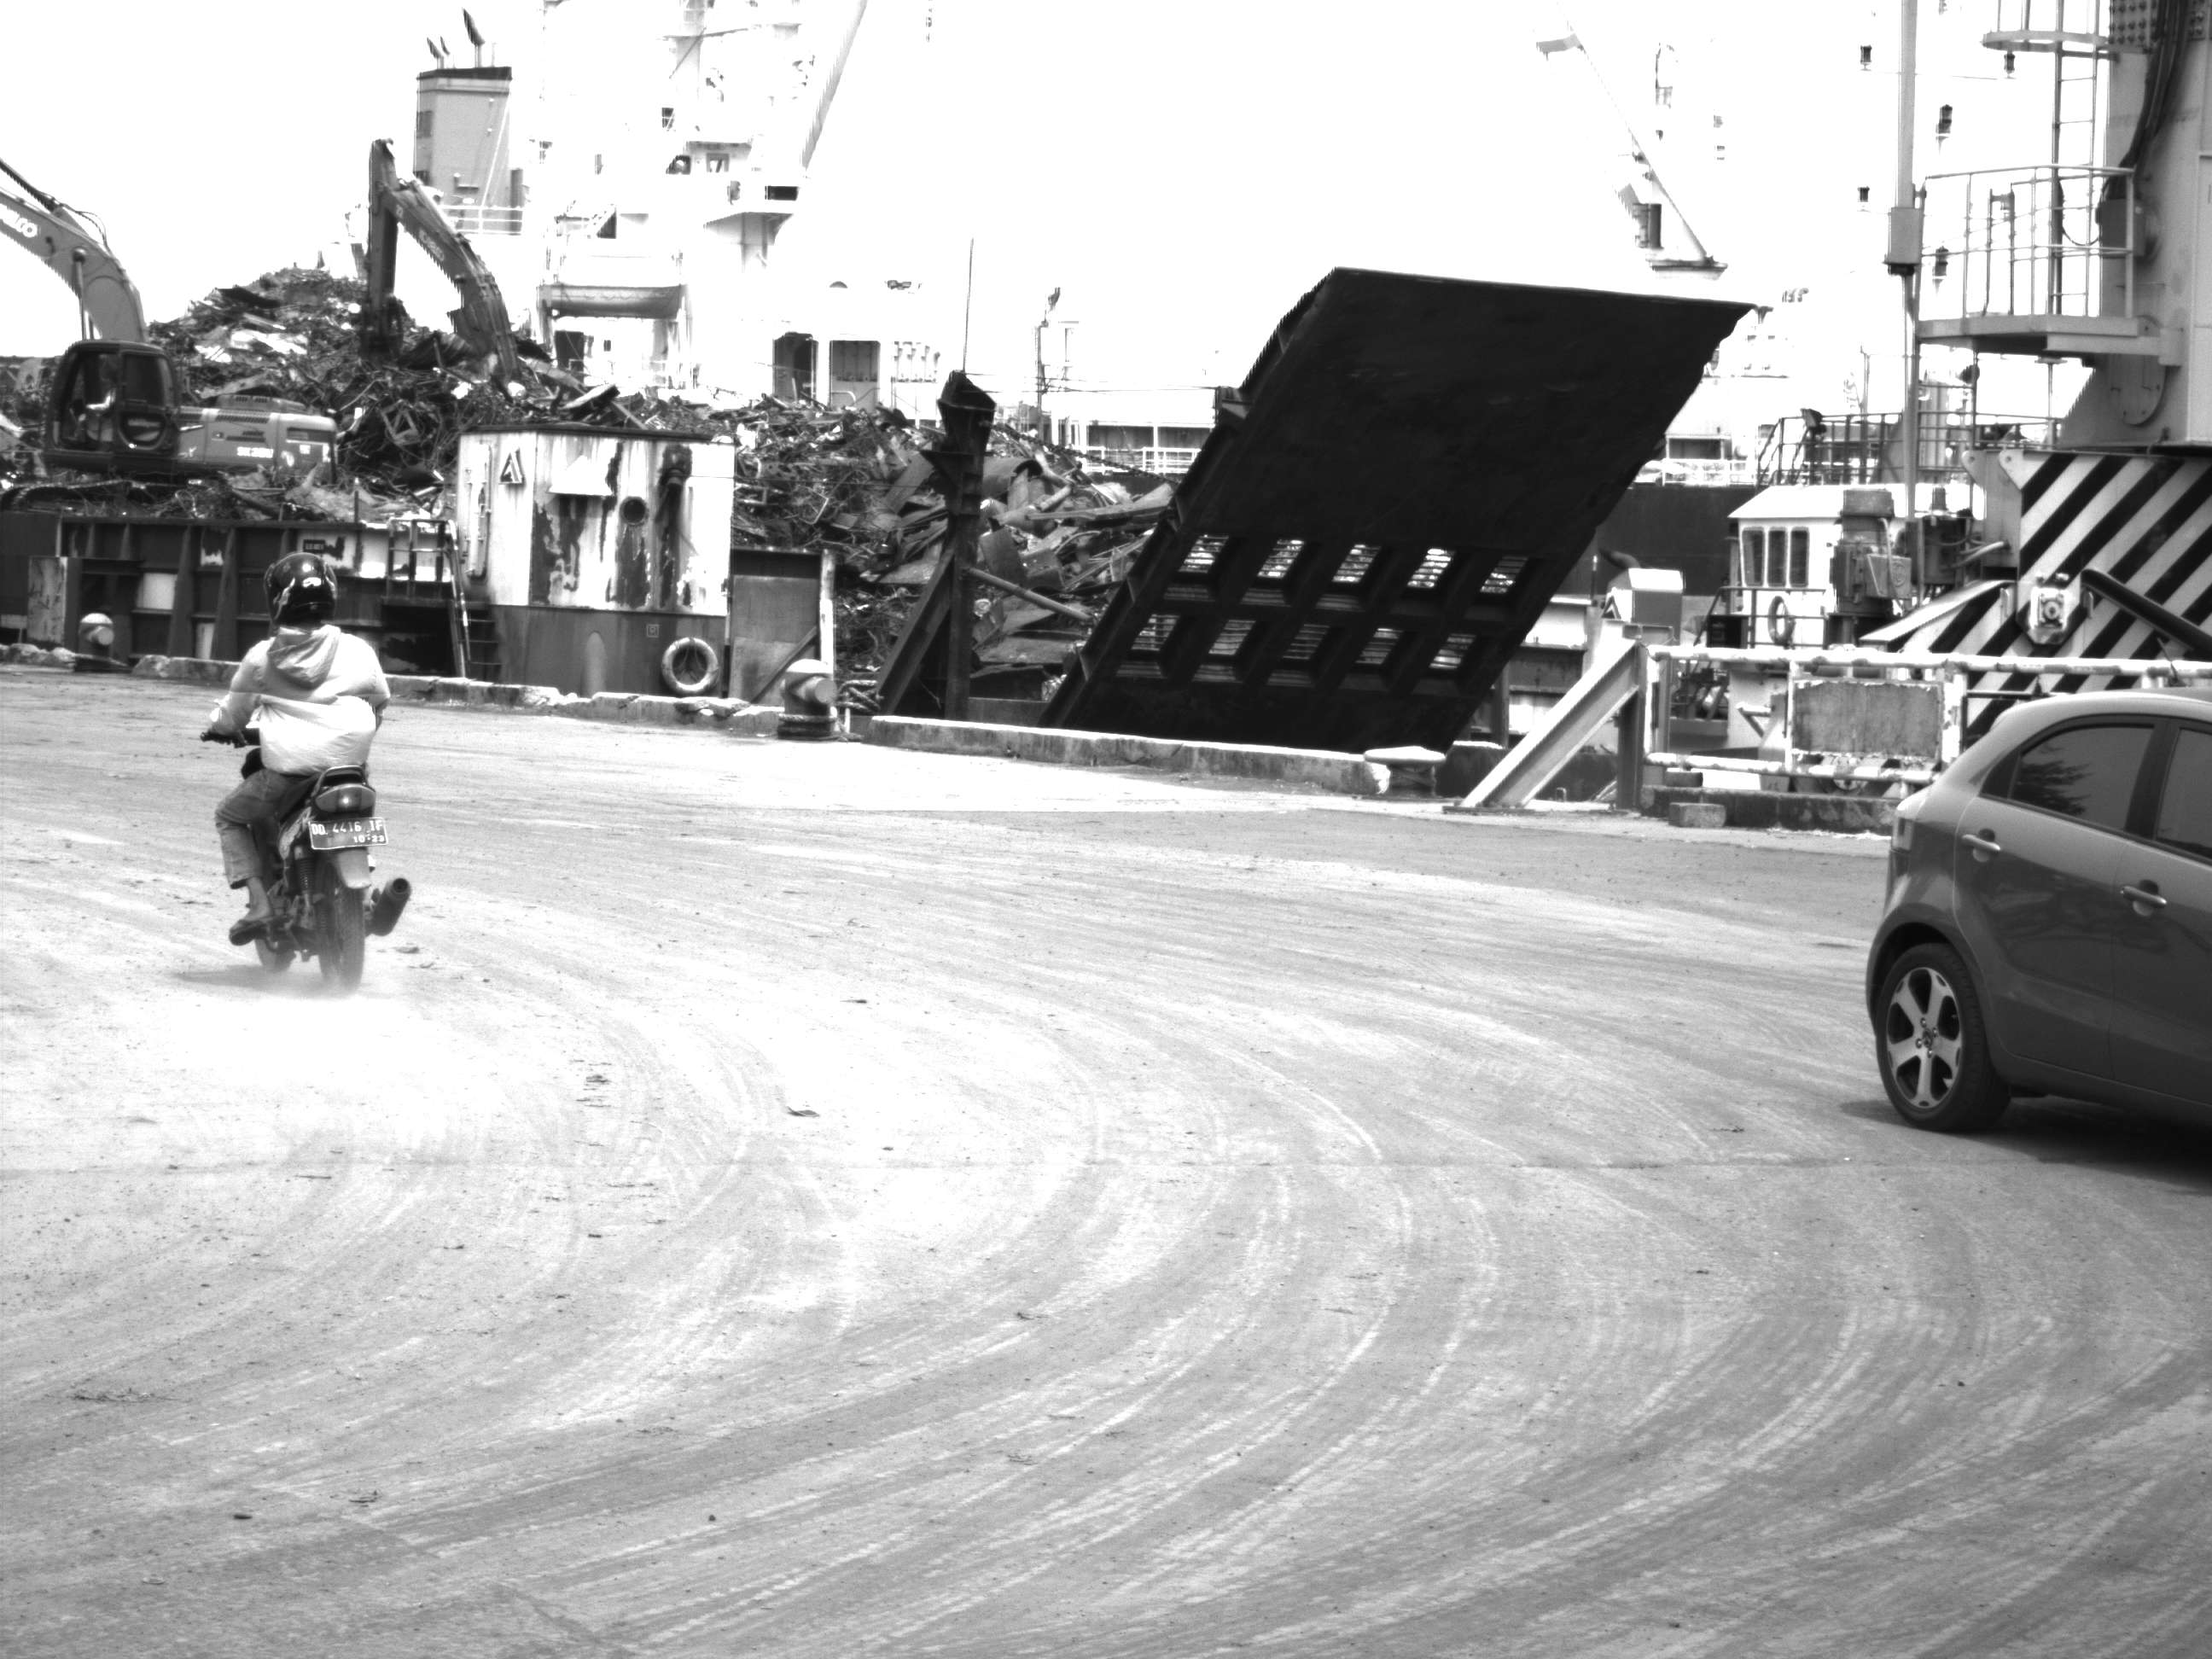car: (1864, 679, 2212, 1144)
motor_bike: (189, 719, 433, 988)
person: (200, 543, 431, 768)
